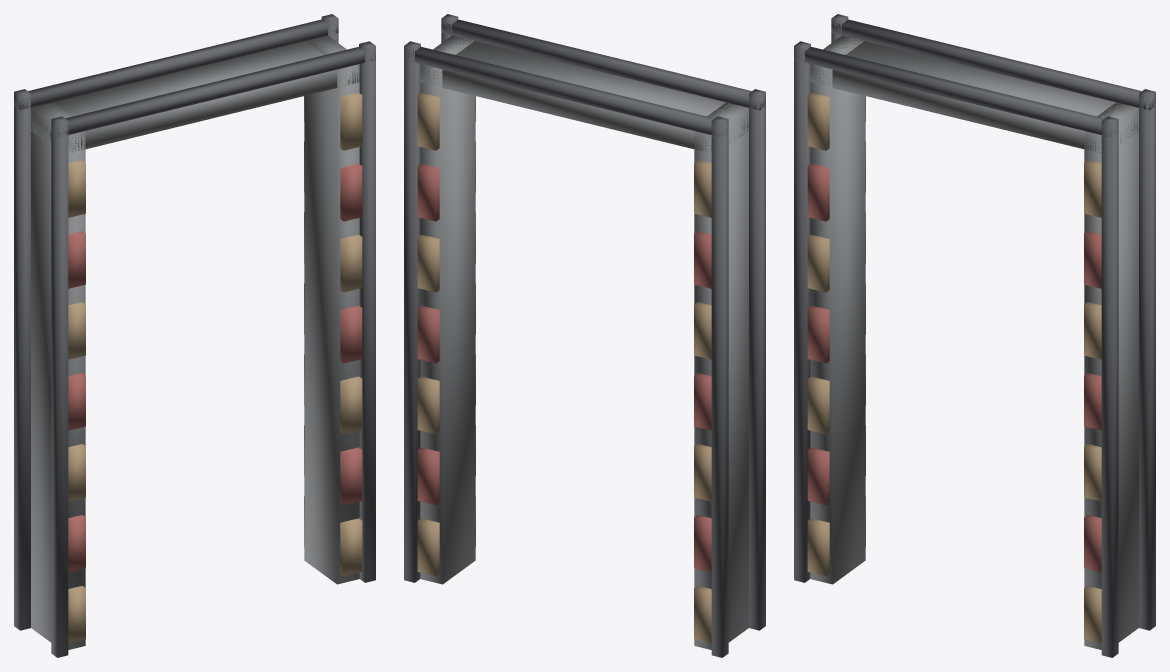
The model's file is doorway_brick_return_w106_h200_d24.glb.
3 views of the same model, side by side, from view 1: azimuth 30°, elevation 25°; view 2: azimuth 150°, elevation 25°; view 3: azimuth 330°, elevation 25° (orthographic).
Visible parts, largest first — view 1: world; view 2: world; view 3: world.
Boxes of the visible parts, bbox=[...] form: world: bbox=[14, 14, 375, 657]; world: bbox=[404, 14, 765, 657]; world: bbox=[794, 14, 1155, 657].
Bounding box in the file's own units: 1.34 × 2.15 × 0.3178.
